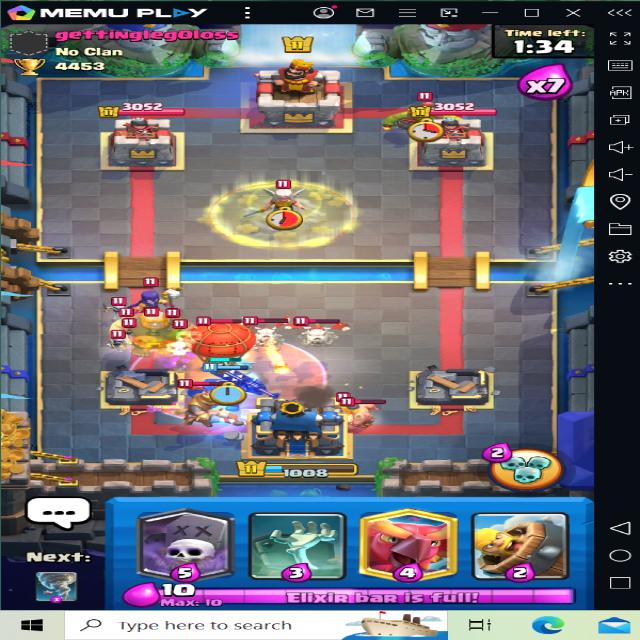balloon: (185, 318, 254, 382)
barbarian: (337, 393, 382, 424)
battle-healer: (247, 176, 318, 225)
giant: (109, 306, 198, 356)
goblin-demolisher: (380, 91, 464, 139)
prince: (184, 377, 237, 428)
skeleton: (105, 328, 132, 347), (107, 296, 128, 317)
skeleton-dragon: (232, 316, 291, 351), (289, 316, 346, 352)
witch: (134, 276, 171, 315)
